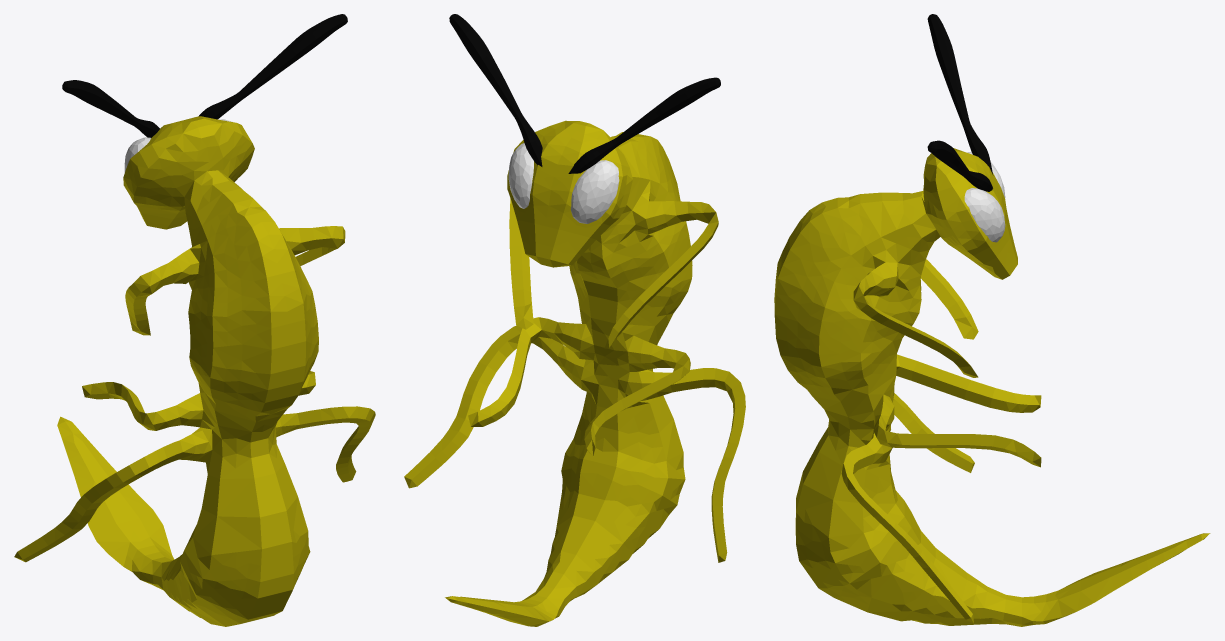
Rendered from Vespe - Blender Sculpting base practice 2.gltf.
3 views of the same model, side by side, from view 1: azimuth 30°, elevation 25°; view 2: azimuth 150°, elevation 25°; view 3: azimuth 270°, elevation 25° (orthographic). The views are drawn at different scales.
Visible parts, largest first — view 1: Vespe, Vespe.001; view 2: Vespe, Vespe.001, Icosphere; view 3: Vespe, Vespe.001, Icosphere.
Boxes of the visible parts, x1=… form: Vespe: x1=14, y1=116, x2=375, y2=626; Vespe.001: x1=62, y1=14, x2=347, y2=137; Vespe: x1=404, y1=120, x2=745, y2=626; Vespe.001: x1=449, y1=14, x2=720, y2=173; Icosphere: x1=508, y1=143, x2=619, y2=223; Vespe: x1=774, y1=148, x2=1210, y2=626; Vespe.001: x1=927, y1=14, x2=993, y2=191; Icosphere: x1=964, y1=152, x2=1005, y2=242.
Bounding box in the file's own units: 3.07 × 4.92 × 3.56.
Materials: 2 (1 with a texture image).
